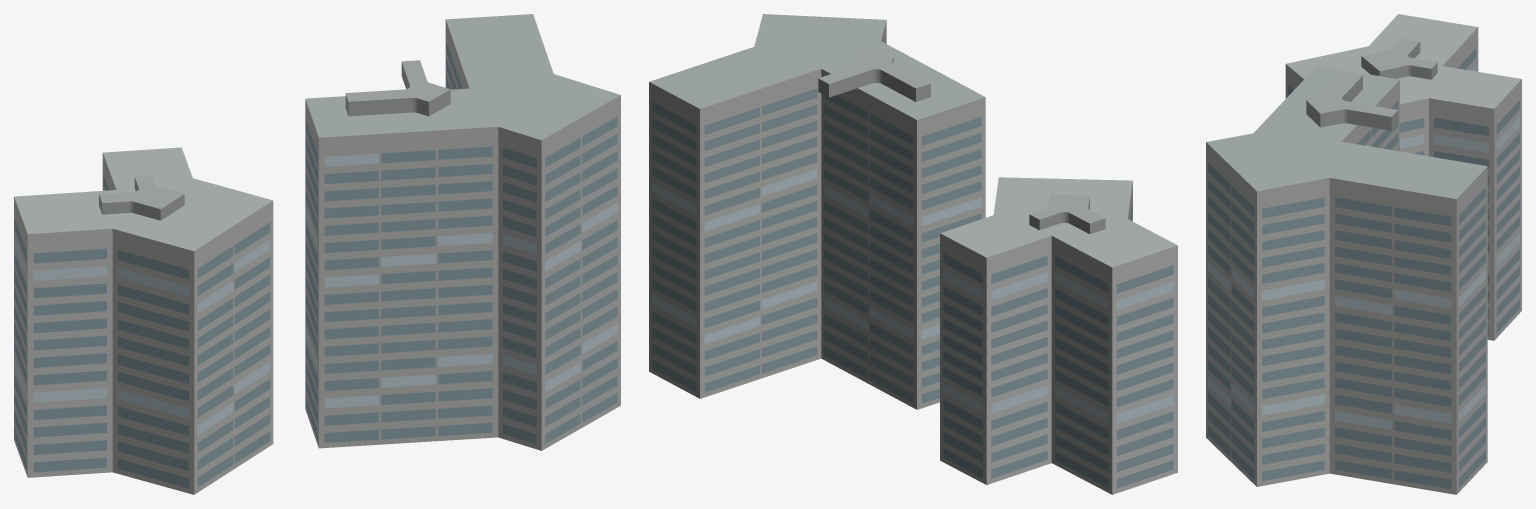
Rendered from apt-a15671801.glb.
The picture shows the model from 3 angles, left to right: view 1: azimuth 30°, elevation 25°; view 2: azimuth 150°, elevation 25°; view 3: azimuth 270°, elevation 25°; orthographic projection. The views are drawn at different scales.
Visible parts, largest first — view 1: apt-a15671801; view 2: apt-a15671801; view 3: apt-a15671801.
Boxes of the visible parts, left/top/right/bottom form: apt-a15671801: left=14, top=14, right=620, bottom=494; apt-a15671801: left=649, top=14, right=1177, bottom=494; apt-a15671801: left=1206, top=14, right=1521, bottom=494.
Size of the model in its own units: 87.95 by 51 by 47.12.
